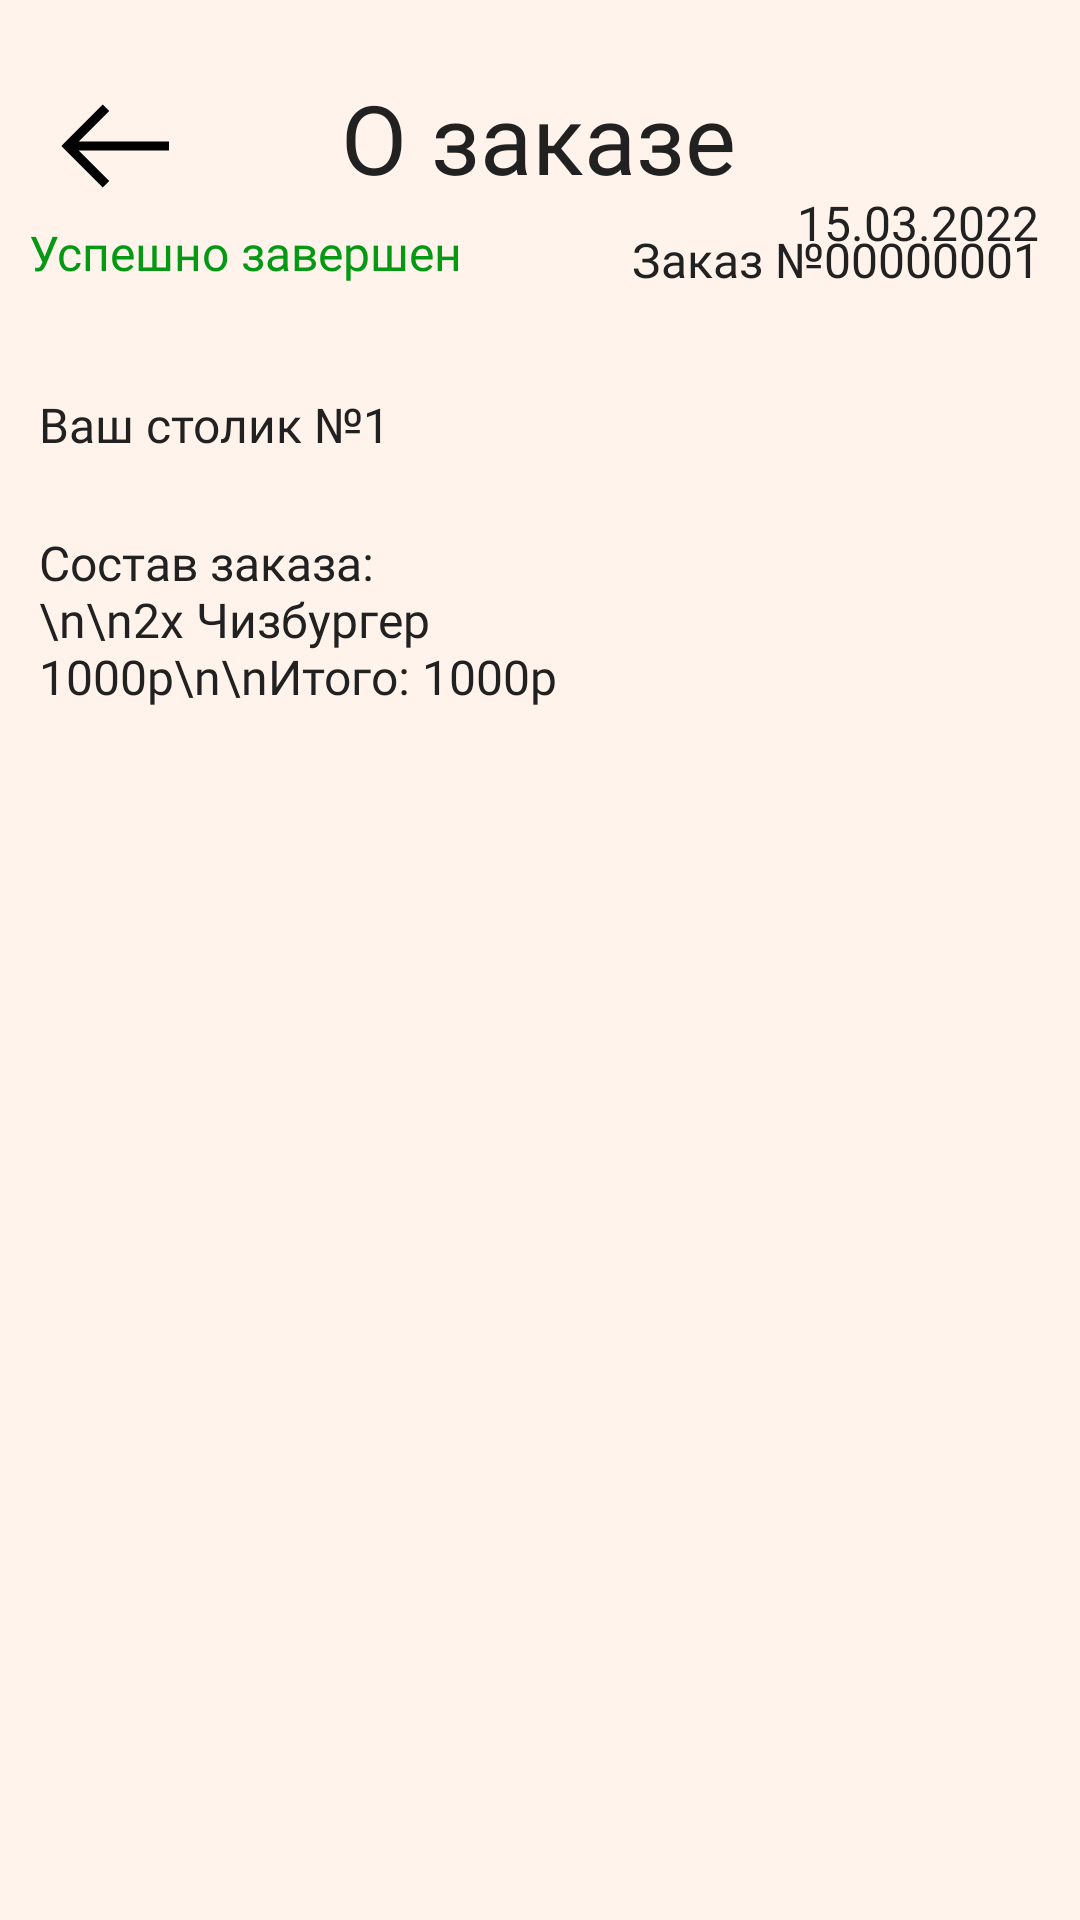

Point at icon controls on the screen. Image size 1080 x 1920, points as point (x, y).
back: point (115, 146)
